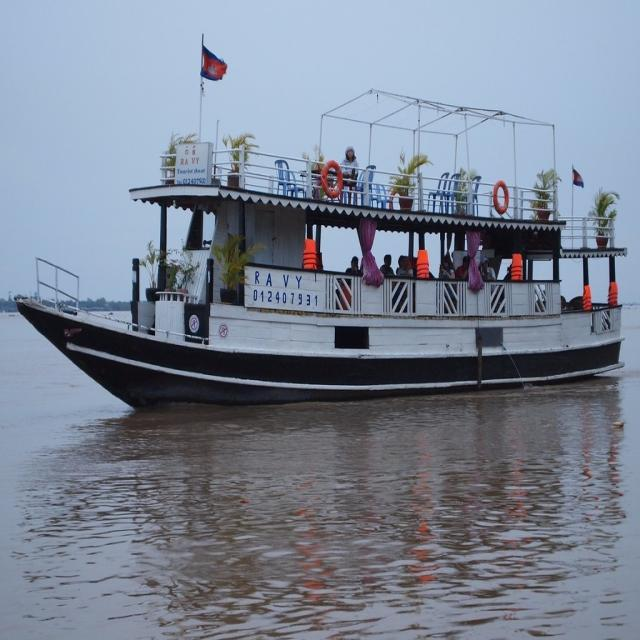boat: (9, 132, 640, 412)
